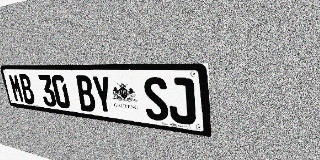0: (50, 75, 71, 109)
3: (38, 74, 57, 107)
B: (75, 75, 97, 113), (18, 74, 36, 105)
J: (167, 77, 196, 126)
M: (8, 74, 25, 103)
S: (142, 77, 170, 122)
Y: (91, 76, 115, 115)
